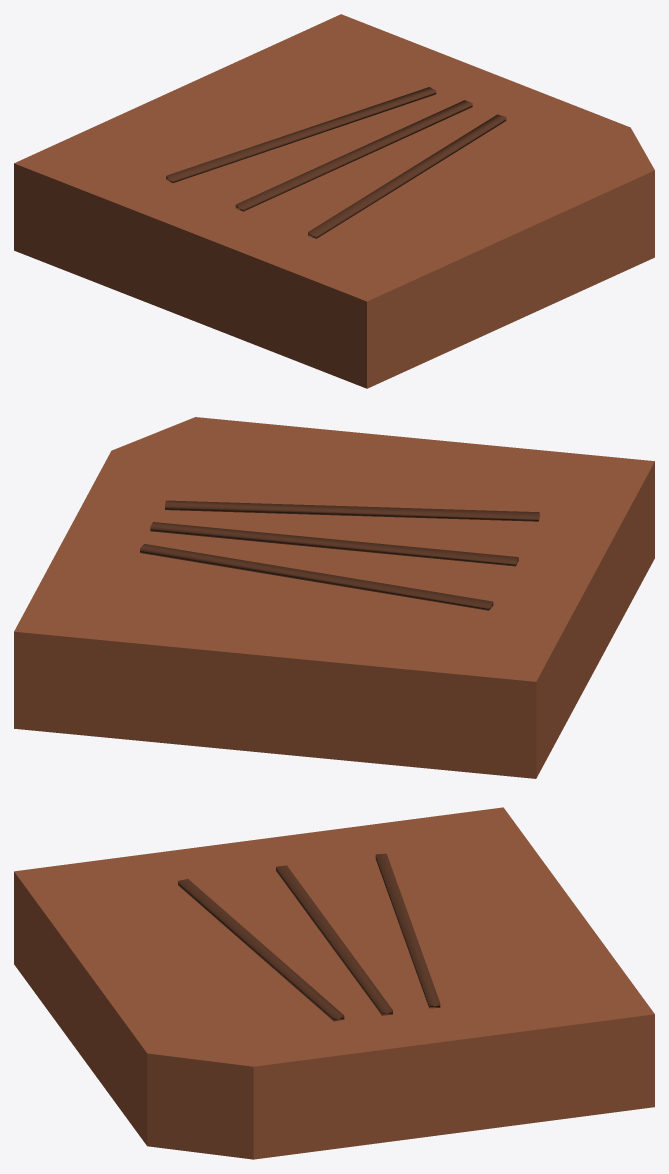
File: lake-kirpich-shallows-0.glb
The picture shows the model from 3 angles, top to bottom: view 1: azimuth 30°, elevation 25°; view 2: azimuth 150°, elevation 25°; view 3: azimuth 270°, elevation 25°; orthographic projection. The views are drawn at different scales.
Parts seen in each view (by area): view 1: lake-kirpich-shallows-0; view 2: lake-kirpich-shallows-0; view 3: lake-kirpich-shallows-0.
Part boxes in pixels (left/top/right/bottom): lake-kirpich-shallows-0: left=14, top=14, right=654, bottom=388; lake-kirpich-shallows-0: left=14, top=417, right=654, bottom=778; lake-kirpich-shallows-0: left=14, top=807, right=654, bottom=1159.
Size of the model in its own units: 0.3234 by 0.0565 by 0.3377.
